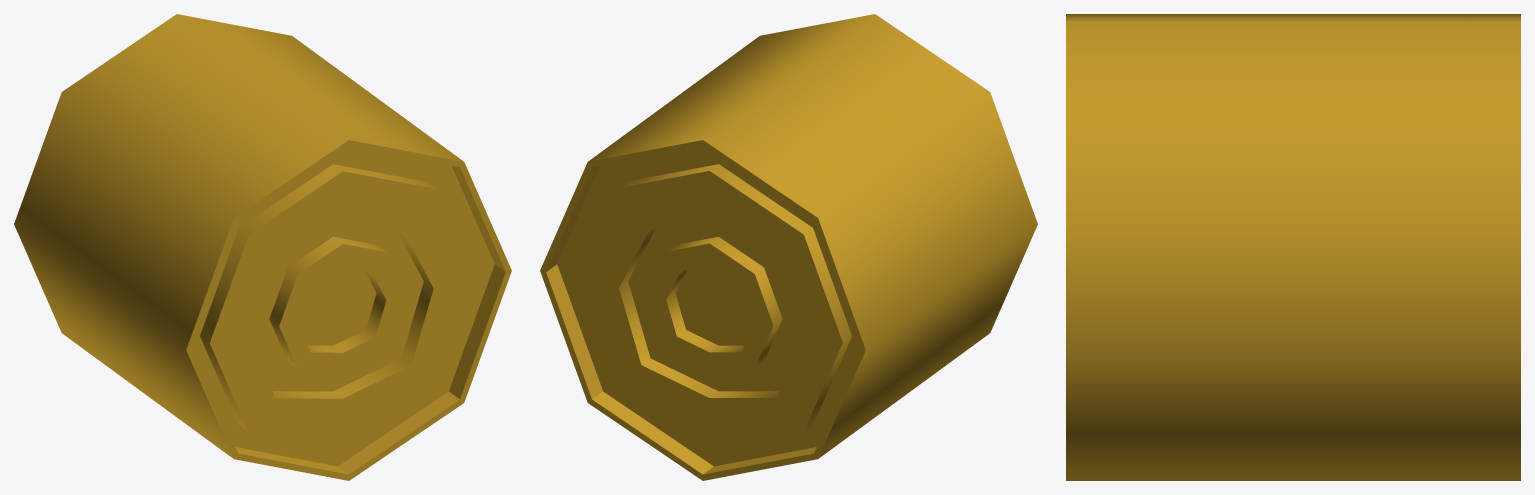
Rendered from HayBale.FBX.
3 renders of one model, left to right at view 1: azimuth 30°, elevation 25°; view 2: azimuth 150°, elevation 25°; view 3: azimuth 270°, elevation 25°, orthographic. The views are drawn at different scales.
Parts seen in each view (by area): view 1: Cylinder011, RingWave001, RingWave002; view 2: Cylinder011, RingWave001, RingWave002; view 3: Cylinder011.
Part boxes in pixels (<box>): Cylinder011: <box>14,14,511,480</box>; RingWave001: <box>200,164,476,450</box>; RingWave002: <box>269,236,406,377</box>; Cylinder011: <box>540,14,1037,480</box>; RingWave001: <box>576,164,851,449</box>; RingWave002: <box>645,236,782,376</box>; Cylinder011: <box>1066,14,1520,480</box>.
Size of the model in its own units: 57.44 by 57.44 by 52.57.
